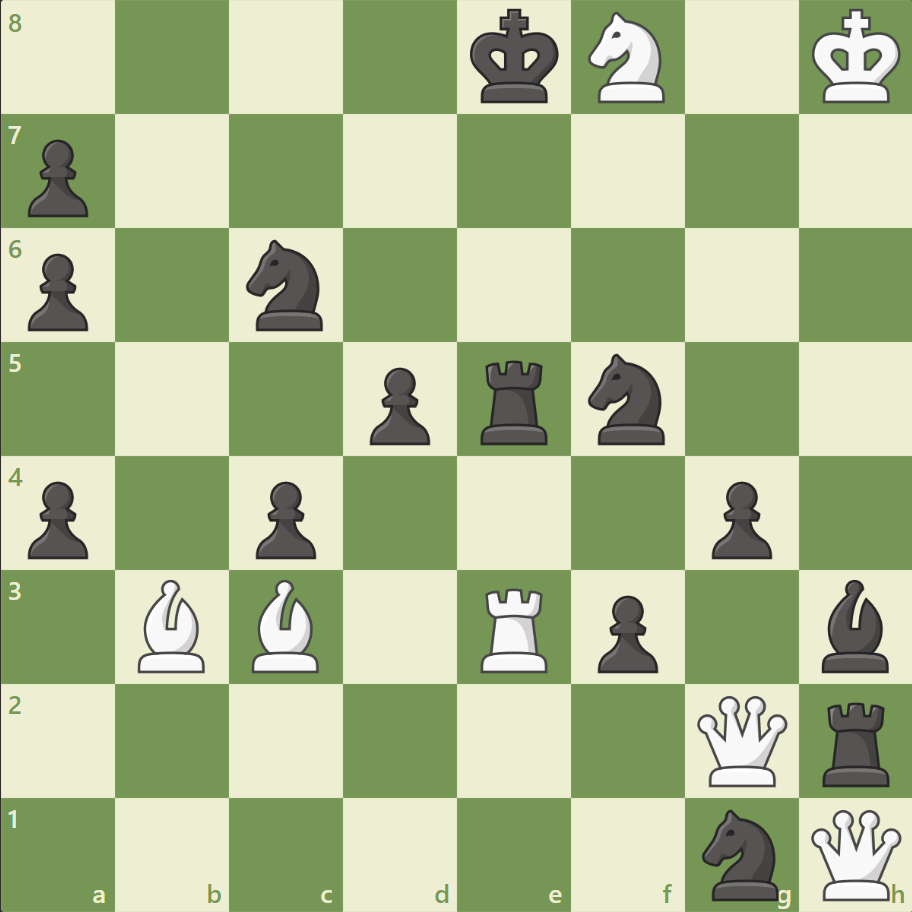B: (131, 574, 215, 676), (244, 574, 328, 676)
K: (806, 4, 906, 112)
N: (579, 7, 676, 110)
Q: (691, 690, 790, 789), (805, 804, 904, 903)
R: (473, 579, 556, 676)
b: (812, 574, 896, 676)
k: (465, 4, 565, 112)
n: (238, 234, 335, 337), (579, 348, 676, 450), (692, 802, 789, 904)
p: (20, 132, 95, 223), (20, 246, 95, 337), (20, 473, 95, 564), (247, 473, 322, 564), (701, 473, 776, 564), (361, 359, 435, 450), (588, 586, 662, 677)
r: (473, 352, 556, 449), (814, 693, 897, 790)
